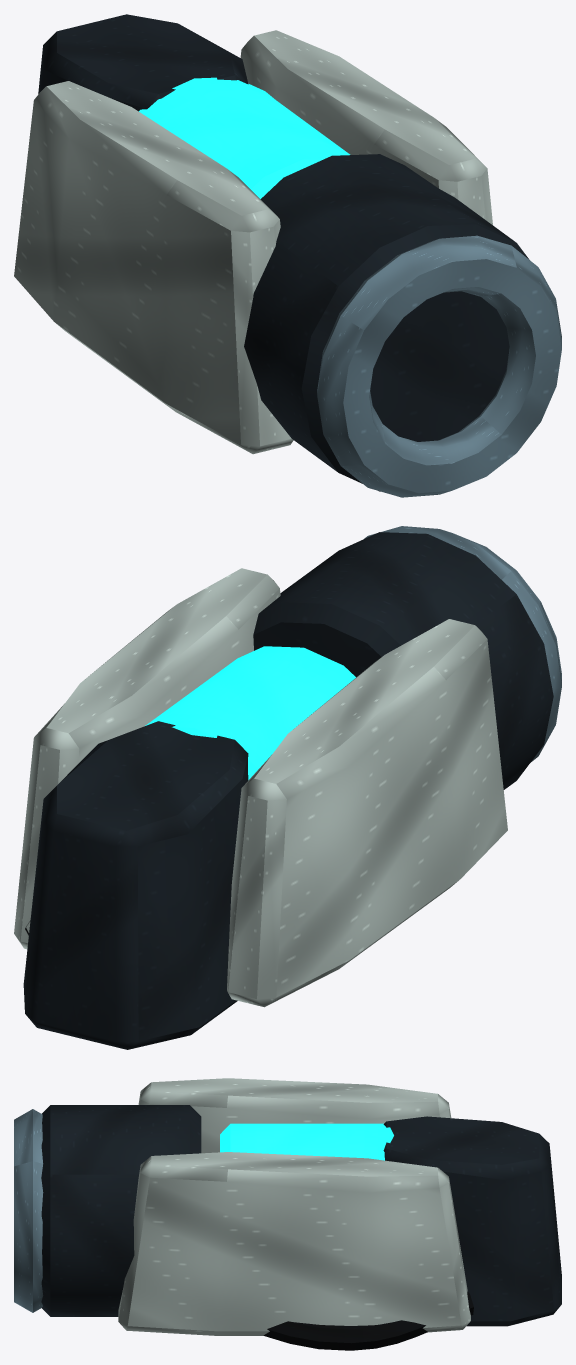
The model's file is Emitter_M0.fbx.
3 views of the same model, one above another, from view 1: azimuth 30°, elevation 25°; view 2: azimuth 150°, elevation 25°; view 3: azimuth 270°, elevation 25° (orthographic). The views are drawn at different scales.
Visible parts, largest first — view 1: Emitter_M0; view 2: Emitter_M0; view 3: Emitter_M0.
Boxes of the visible parts, left/top/right/bottom form: Emitter_M0: left=14, top=14, right=561, bottom=497; Emitter_M0: left=14, top=526, right=561, bottom=1049; Emitter_M0: left=14, top=1078, right=561, bottom=1350.
Bounding box in the file's own units: 0.4214 × 0.34 × 0.8791.
